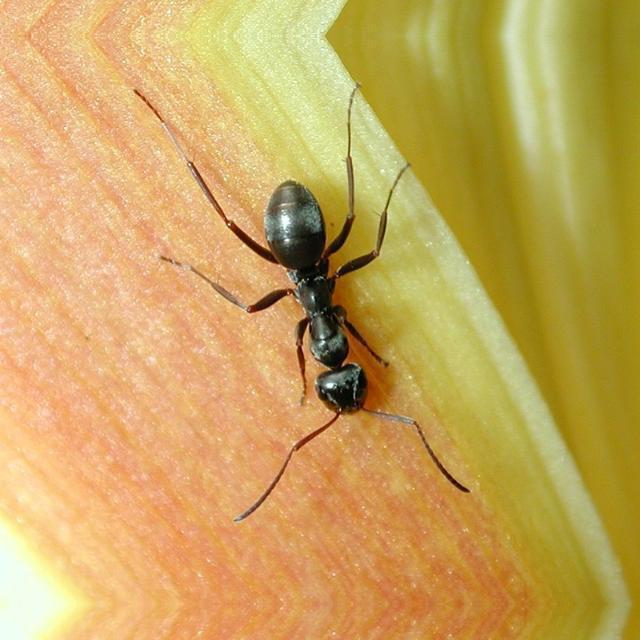Formica: (152, 116, 480, 478)
